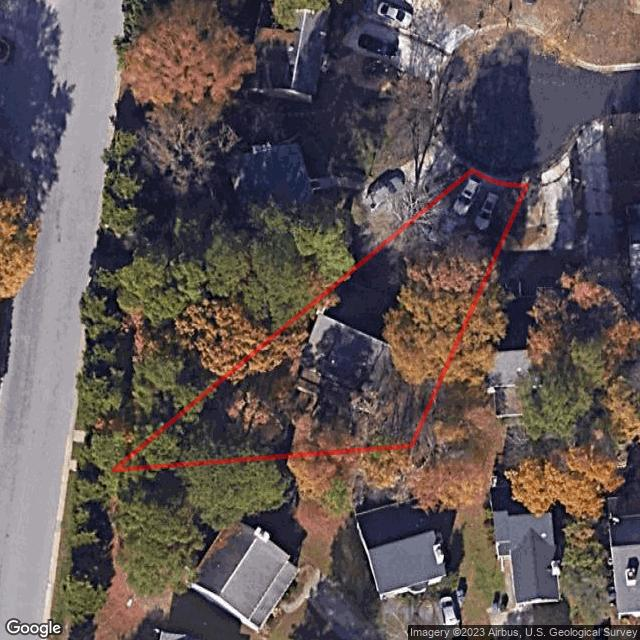Driveway: (424, 174, 521, 252)
House: (295, 312, 395, 401)
